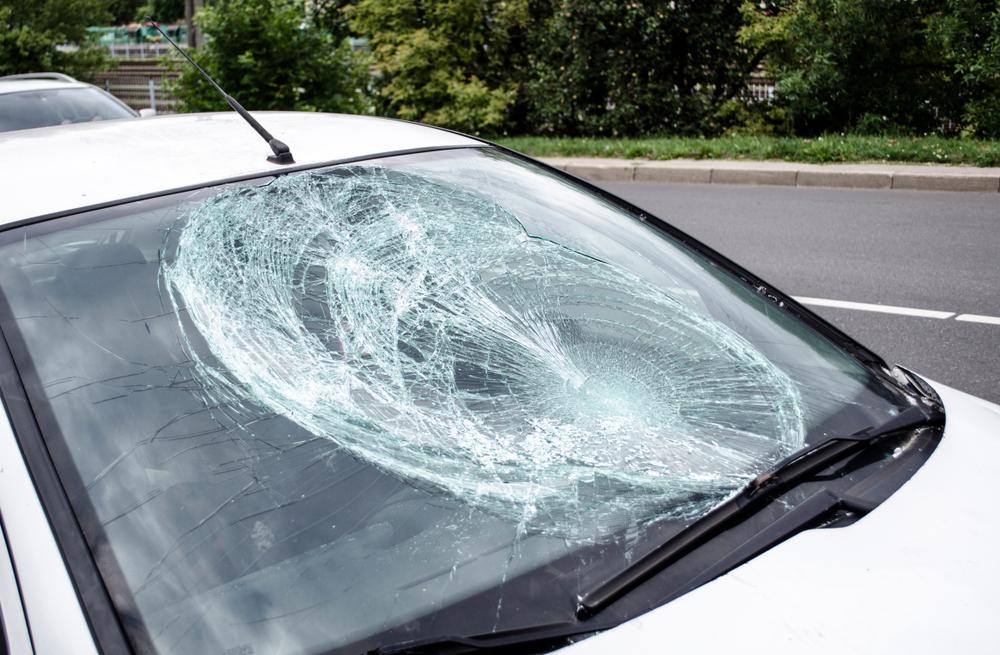glass shatter: (0, 148, 924, 655)
